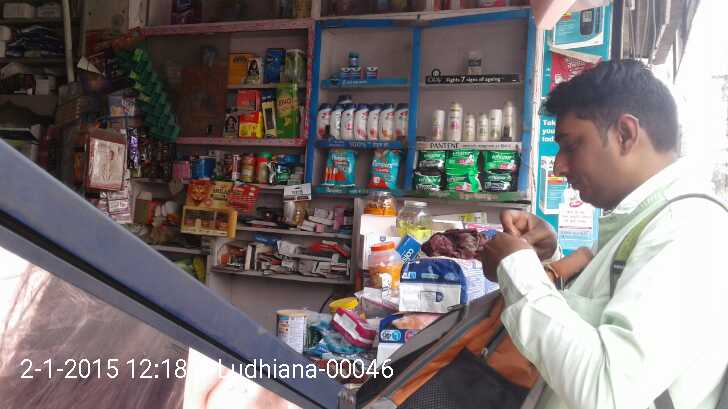vicks: (336, 50, 378, 80)
